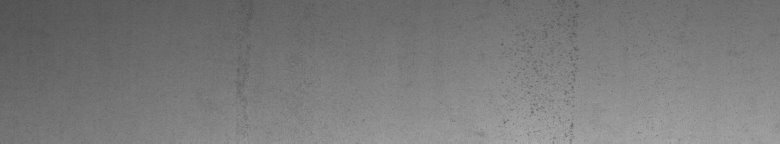ib: (498, 16, 578, 136)
